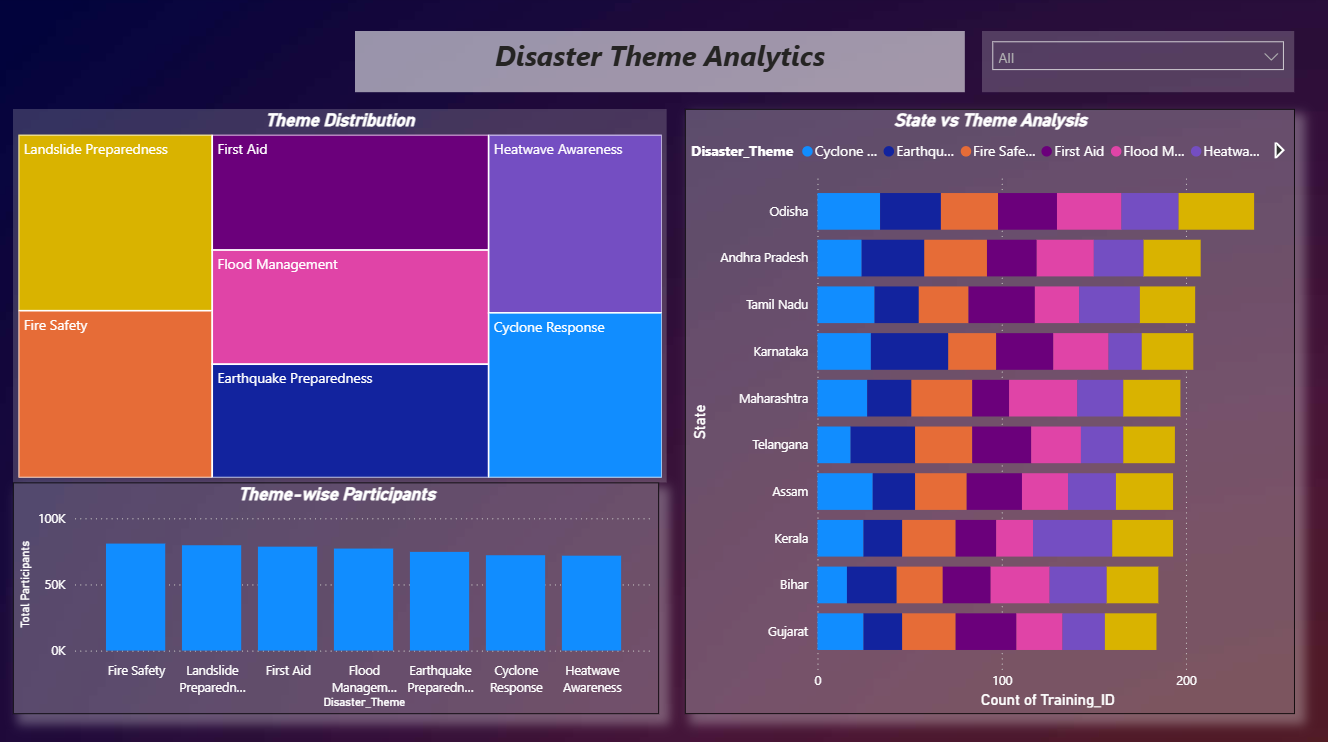

The dashboard page shown, as its layout file describes it:
{"tool":"powerbi","page":{"name":"Theme Analytics","canvas":[1280,720],"ordinal":2},"visuals":[{"type":"textbox","box":[342,35.1,584.6,58.5],"z":0},{"type":"treemap","title":"Theme Distribution","fields":{"Details":["Training_Data.Disaster_Theme"],"Values":["Training_Data.Count of Training_ID"]},"box":[14.6,109.6,627,358.1],"z":1000},{"type":"barChart","title":"State vs Theme Analysis","fields":{"Category":["Training_Data.State"],"Series":["Training_Data.Disaster_Theme"],"Y":["Training_Data.Count of Training_ID"]},"box":[659,109.3,584.6,580.2],"z":2000},{"type":"clusteredColumnChart","title":"Theme-wise Participants","fields":{"Category":["Training_Data.Disaster_Theme"],"Y":["Training_Data.Total Participants"]},"box":[14.6,467.7,619.7,222.1],"z":3000},{"type":"slicer","fields":{"Values":["Training_Data.State","Training_Data.District","Training_Data.Disaster_Theme","Training_Data.Institution_Type","Training_Data.Date","Training_Data.Venue_Type"]},"box":[944.1,35.1,299.6,58.5],"z":4000}]}

Visuals, with their boxes in screenshot pixels (x1, y1, x2, y2), scaled from the page's 1280x720 canvas onto the 1328x742 screenshot:
textbox: (355,36,961,96)
"Theme Distribution" treemap: (15,113,666,482)
"State vs Theme Analysis" barChart: (684,113,1290,711)
"Theme-wise Participants" clusteredColumnChart: (15,482,658,711)
slicer - Training_Data.State x Training_Data.District: (980,36,1290,96)
